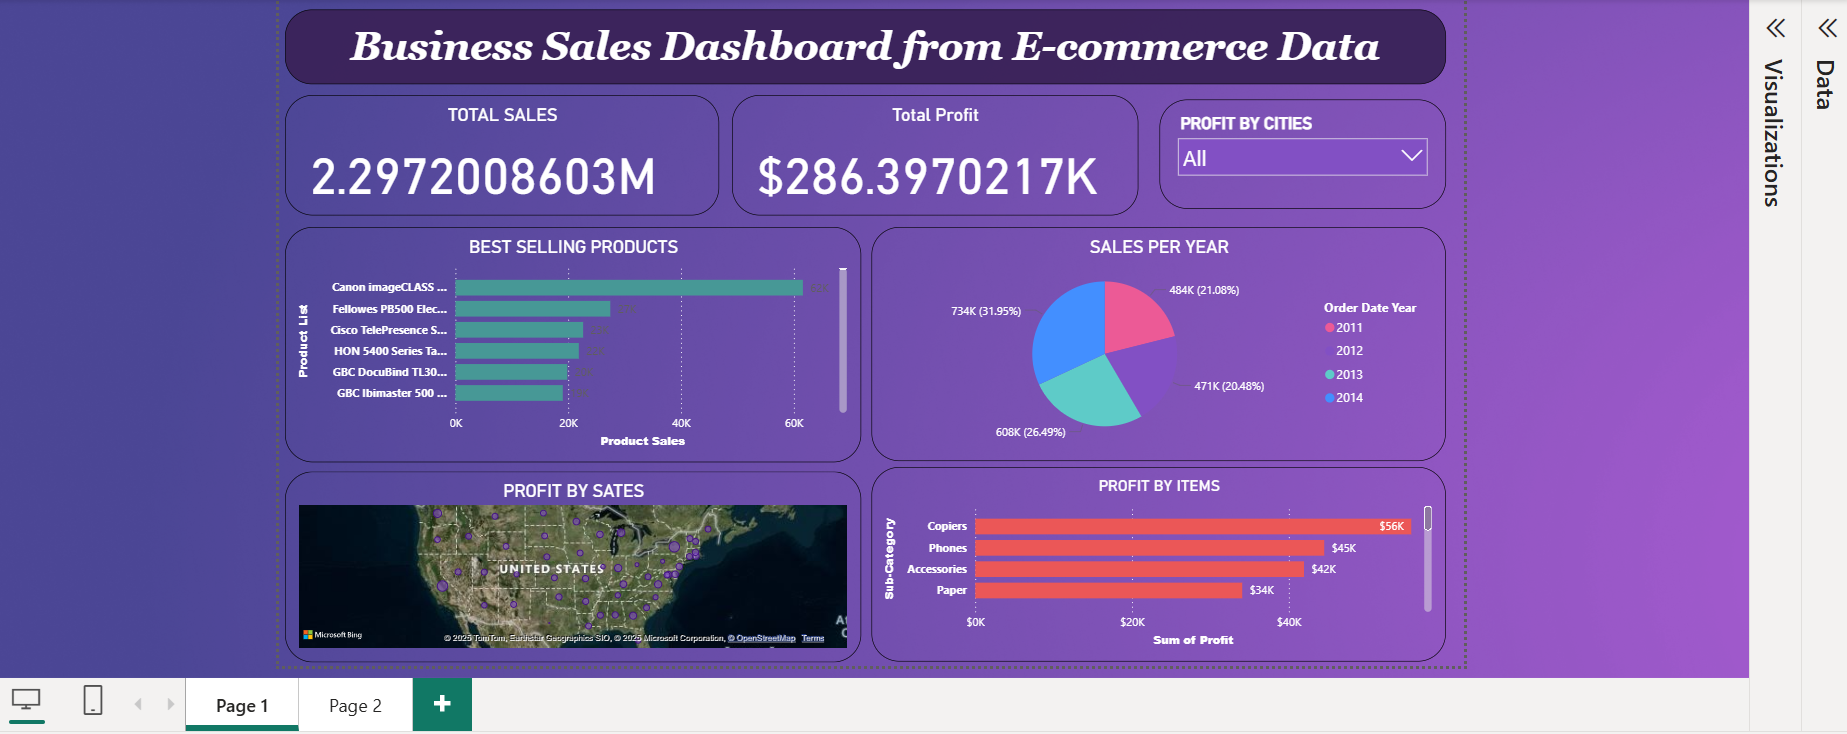

The page's visual inventory and layout, read from the dashboard file:
{"tool":"powerbi","page":{"name":"Page 1","canvas":[1280,720],"ordinal":0},"visuals":[{"type":"barChart","title":"BEST SELLING PRODUCTS","fields":{"Category":["Orders.Product Name"],"Y":["Sum(Orders.Sales)"]},"box":[6.5,246.1,621.8,254.2],"z":0},{"type":"textbox","box":[6.7,0,1253.3,91.7],"z":1000},{"type":"pieChart","title":"SALES PER YEAR","fields":{"Category":["Orders.Order Date.Variation.Date Hierarchy.Year","Orders.Order Date.Variation.Date Hierarchy.Quarter","Orders.Order Date.Variation.Date Hierarchy.Month","Orders.Order Date.Variation.Date Hierarchy.Day"],"Y":["Sum(Orders.Sales)"]},"box":[639.6,246.1,620.2,252.6],"z":2000},{"type":"cardVisual","title":"TOTAL SALES","fields":{"Data":["Sum(Orders.Sales)"]},"box":[6.7,103.3,468.3,130],"z":3000},{"type":"cardVisual","title":"Total Profit","fields":{"Data":["Sum(Orders.Profit)"]},"box":[488.3,103.3,438.3,130],"z":4000},{"type":"map","title":"PROFIT BY SATES","fields":{"Category":["Orders.State"],"Size":["Sum(Orders.Profit)"]},"box":[6,510,622,206],"z":5000},{"type":"barChart","title":"PROFIT BY ITEMS","fields":{"Category":["Orders.Sub-Category"],"Y":["Sum(Orders.Profit)"]},"box":[640,506,620,210],"z":6000},{"type":"slicer","fields":{"Values":["Orders.City","Orders.Profit"]},"box":[950.5,108.5,309.3,118.2],"z":7000}]}

Visuals, with their boxes on the page's 1280x720 design canvas (x1, y1, x2, y2). These are canvas units, not pixel positions in the 1847x734 screenshot, which may show the page scaled, cropped or inside an application window:
"BEST SELLING PRODUCTS" barChart: left=6, top=246, right=628, bottom=500
textbox: left=7, top=0, right=1260, bottom=92
"SALES PER YEAR" pieChart: left=640, top=246, right=1260, bottom=499
"TOTAL SALES" cardVisual: left=7, top=103, right=475, bottom=233
"Total Profit" cardVisual: left=488, top=103, right=927, bottom=233
"PROFIT BY SATES" map: left=6, top=510, right=628, bottom=716
"PROFIT BY ITEMS" barChart: left=640, top=506, right=1260, bottom=716
slicer - Orders.City x Orders.Profit: left=950, top=108, right=1260, bottom=227
